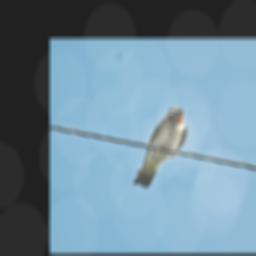Swallow: (131, 104, 189, 190)
